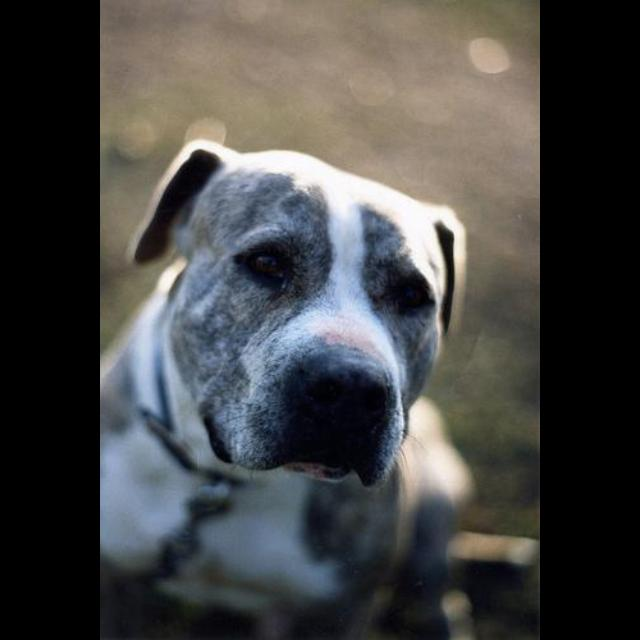amstaff: (101, 135, 477, 640)
